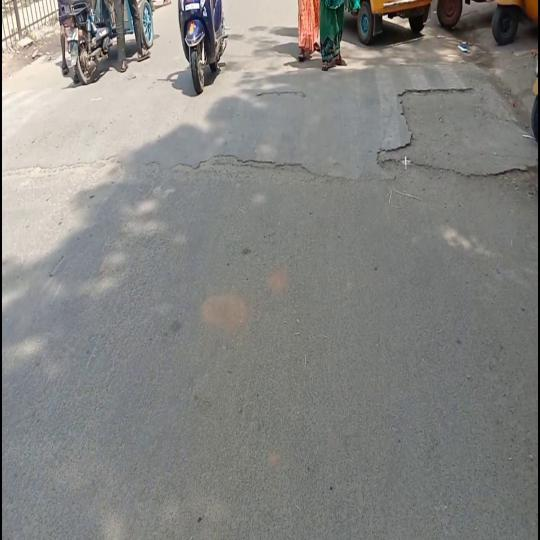Speed Bump: (3, 61, 538, 185)
